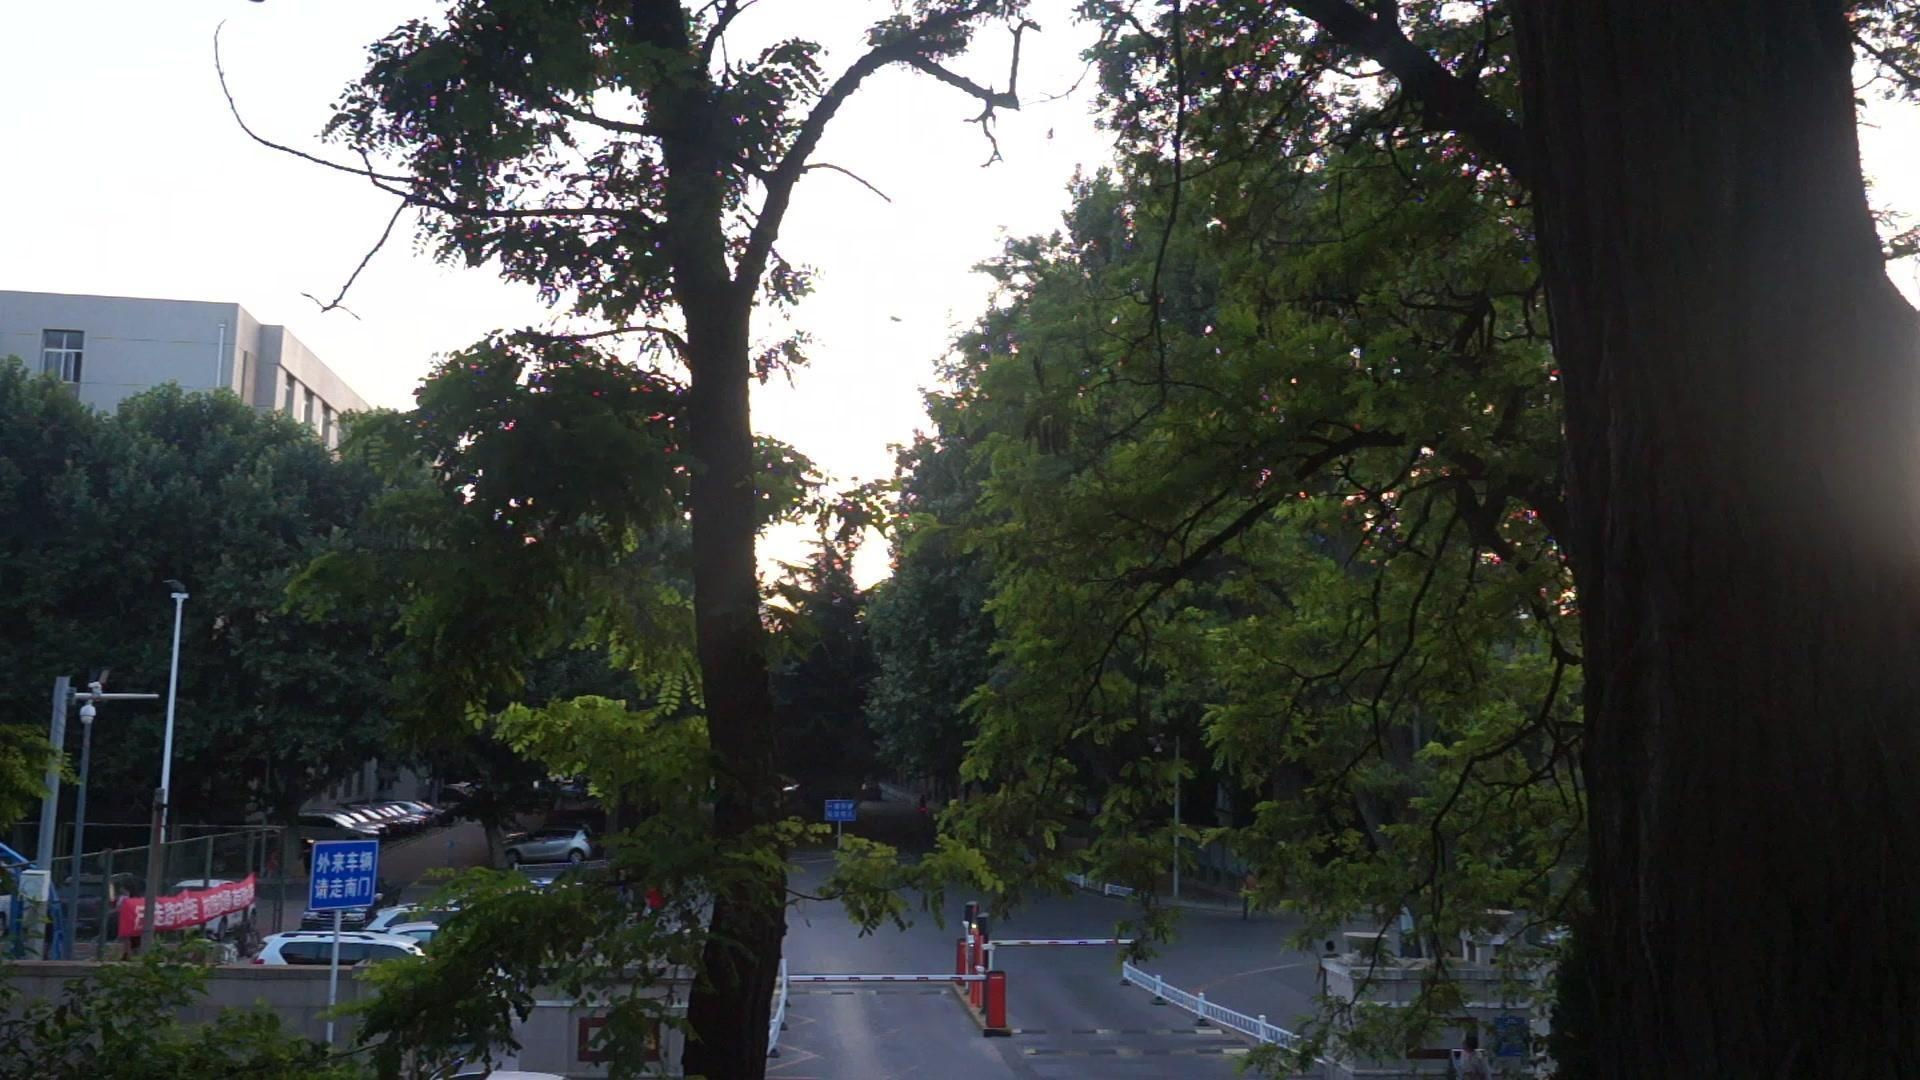UAV: (891, 316, 903, 323)
